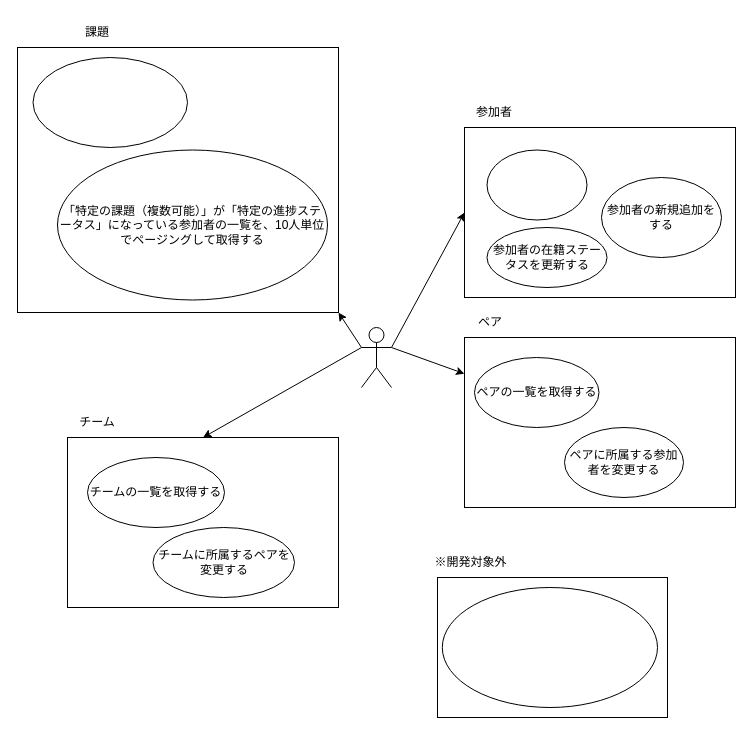
The diagram is 753 pixels wide and 735 high, and some of its shapes have lost their labels. The shapes that lost their labels are listed below. From the top down, each one's centre as x and y in pixels, then its label:
At point (110, 102): "特定の参加者の課題進捗ステータスを更新する".
At point (536, 184): "参加者の一覧を取得する".
At point (549, 647): "ある参加者が、チーム内に合流可能なペアが存在しない状況に陥った場合に、管理者にメール送信する".
